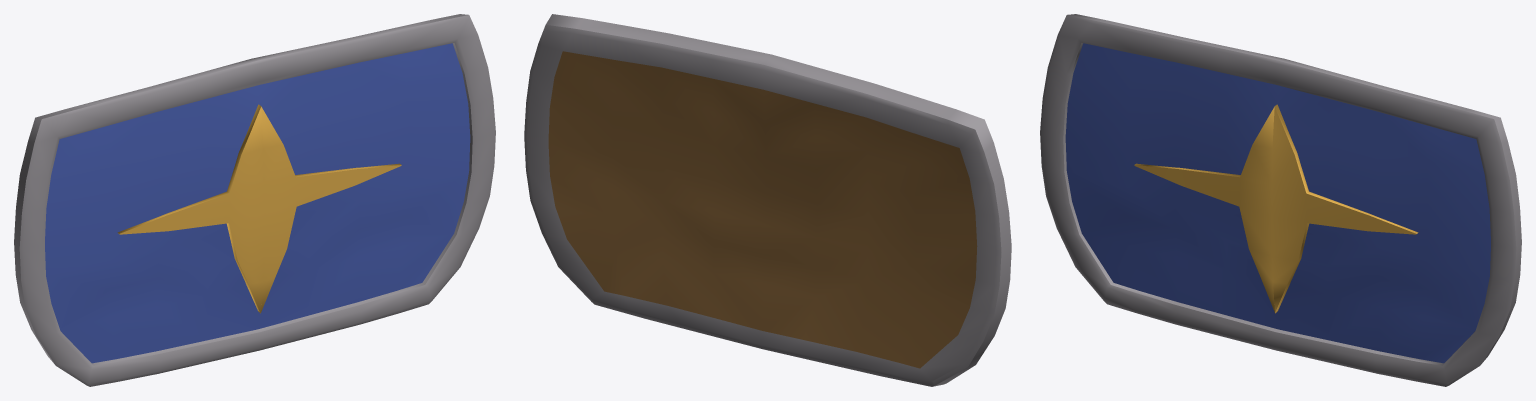
File: partsShield_Lond.fbx
The picture shows the model from 3 angles, left to right: view 1: azimuth 30°, elevation 25°; view 2: azimuth 150°, elevation 25°; view 3: azimuth 330°, elevation 25°; orthographic projection.
Visible parts, largest first — view 1: 2; view 2: 2; view 3: 2.
Part boxes in pixels (bbox=[...]): 2: bbox=[14, 14, 495, 386]; 2: bbox=[524, 14, 1011, 386]; 2: bbox=[1040, 14, 1521, 386].
Size of the model in its own units: 408 by 237 by 25.63.
Materials: 1 (1 with a texture image).
